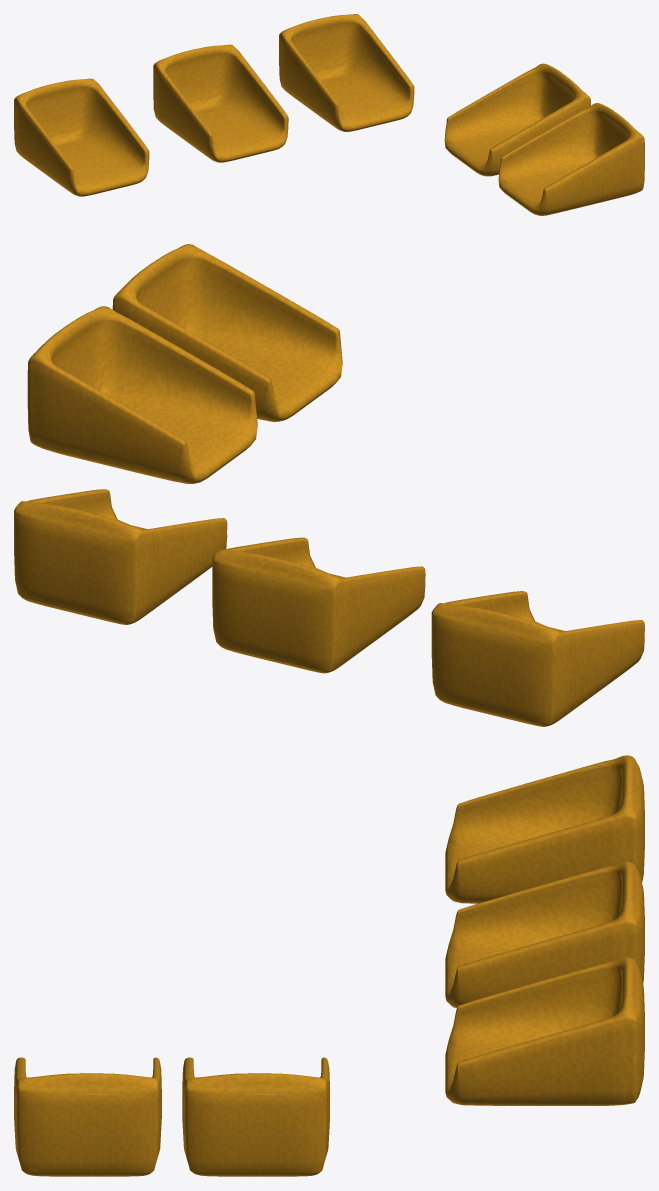
File: Chairs.fbx
3 renders of one model, top to bottom at view 1: azimuth 30°, elevation 25°; view 2: azimuth 150°, elevation 25°; view 3: azimuth 270°, elevation 25°, orthographic. The views are drawn at different scales.
Visible parts, largest first — view 1: polySurface68; view 2: polySurface68; view 3: polySurface68.
Part boxes in pixels (bbox=[...]): polySurface68: bbox=[14, 14, 644, 215]; polySurface68: bbox=[14, 244, 644, 726]; polySurface68: bbox=[14, 755, 644, 1176].
Size of the model in its own units: 231 by 34.15 by 184.
